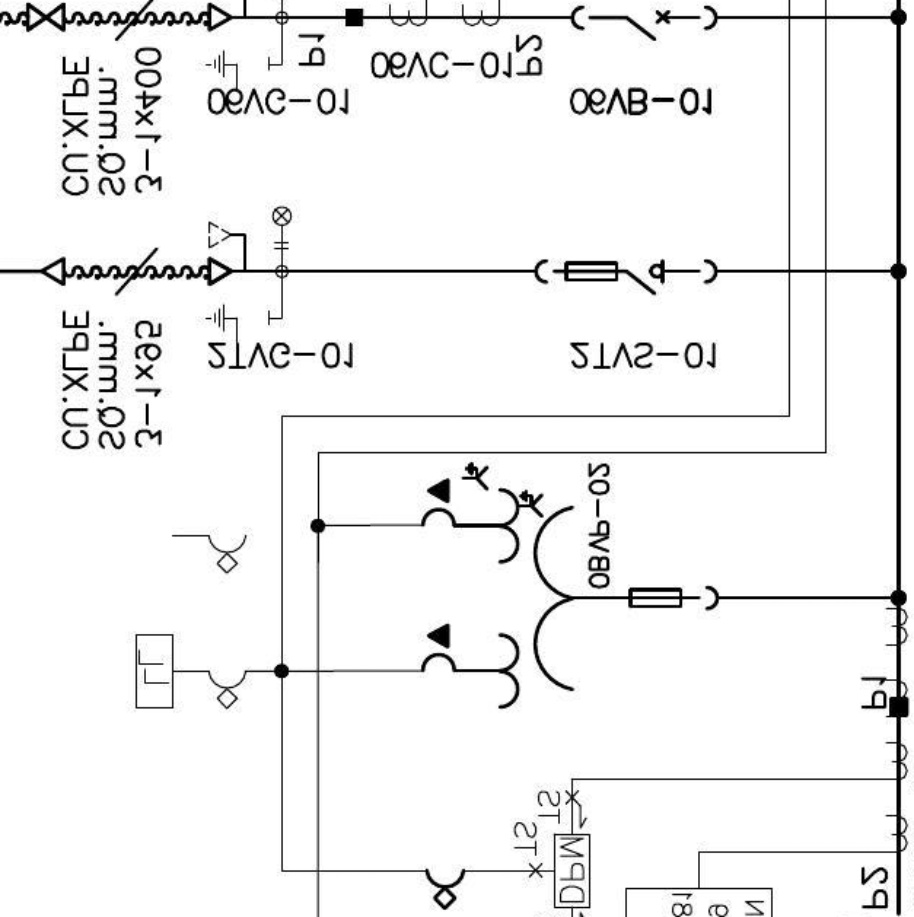22_breaker: (569, 4, 718, 43)
22_ds: (533, 257, 718, 297)
22_gs: (204, 304, 271, 345), (204, 49, 271, 90)
22_ll: (271, 205, 293, 251)
22_vt_3p: (420, 461, 721, 710)
DPM: (551, 832, 593, 910)
LL: (133, 632, 176, 711)
terminator_single: (39, 254, 67, 287)
terminator_splicing_kits: (25, 2, 66, 33)
terminator_w_future: (207, 219, 249, 288)
